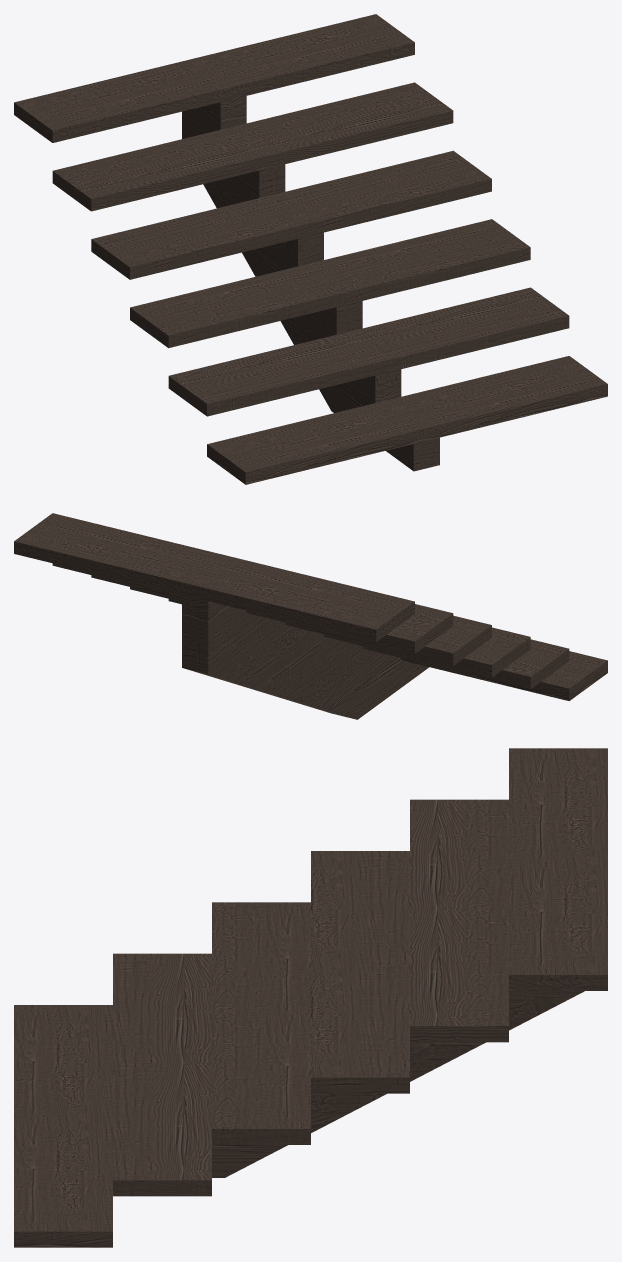
Rendered from japanese_walkway_stairs.FBX.
The picture shows the model from 3 angles, top to bottom: view 1: azimuth 30°, elevation 25°; view 2: azimuth 150°, elevation 25°; view 3: azimuth 270°, elevation 25°; orthographic projection. The views are drawn at different scales.
Parts seen in each view (by area): view 1: japanese_walkway_stairs; view 2: japanese_walkway_stairs; view 3: japanese_walkway_stairs.
Boxes of the visible parts, bbox=[...] form: japanese_walkway_stairs: bbox=[14, 14, 607, 484]; japanese_walkway_stairs: bbox=[14, 513, 607, 719]; japanese_walkway_stairs: bbox=[14, 748, 607, 1247].
Size of the model in its own units: 106 by 66.96 by 117.
